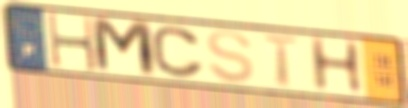C: (148, 25, 208, 80)
H: (305, 35, 366, 94), (45, 12, 100, 74)
M: (89, 15, 161, 80)
S: (204, 29, 258, 86)
T: (260, 33, 304, 89)
